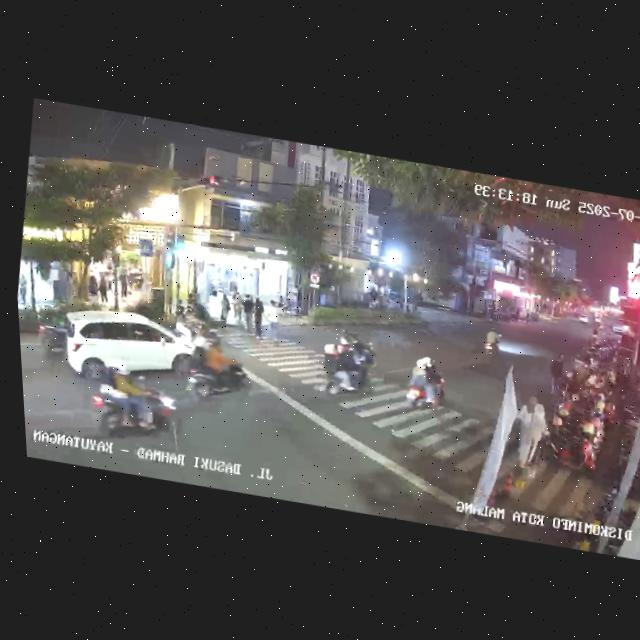car: (52, 301, 196, 397)
motorcycle: (83, 361, 188, 451), (175, 330, 259, 409), (314, 331, 382, 408), (401, 352, 453, 419), (479, 327, 504, 360), (589, 319, 605, 341)
person: (504, 393, 553, 482), (260, 299, 283, 345), (546, 351, 570, 392), (251, 298, 269, 338), (239, 295, 257, 334), (216, 292, 232, 326), (96, 271, 112, 305), (85, 271, 102, 303), (231, 294, 248, 323), (114, 272, 130, 301), (16, 273, 29, 306)
